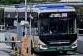bus: (60, 12, 67, 17)
